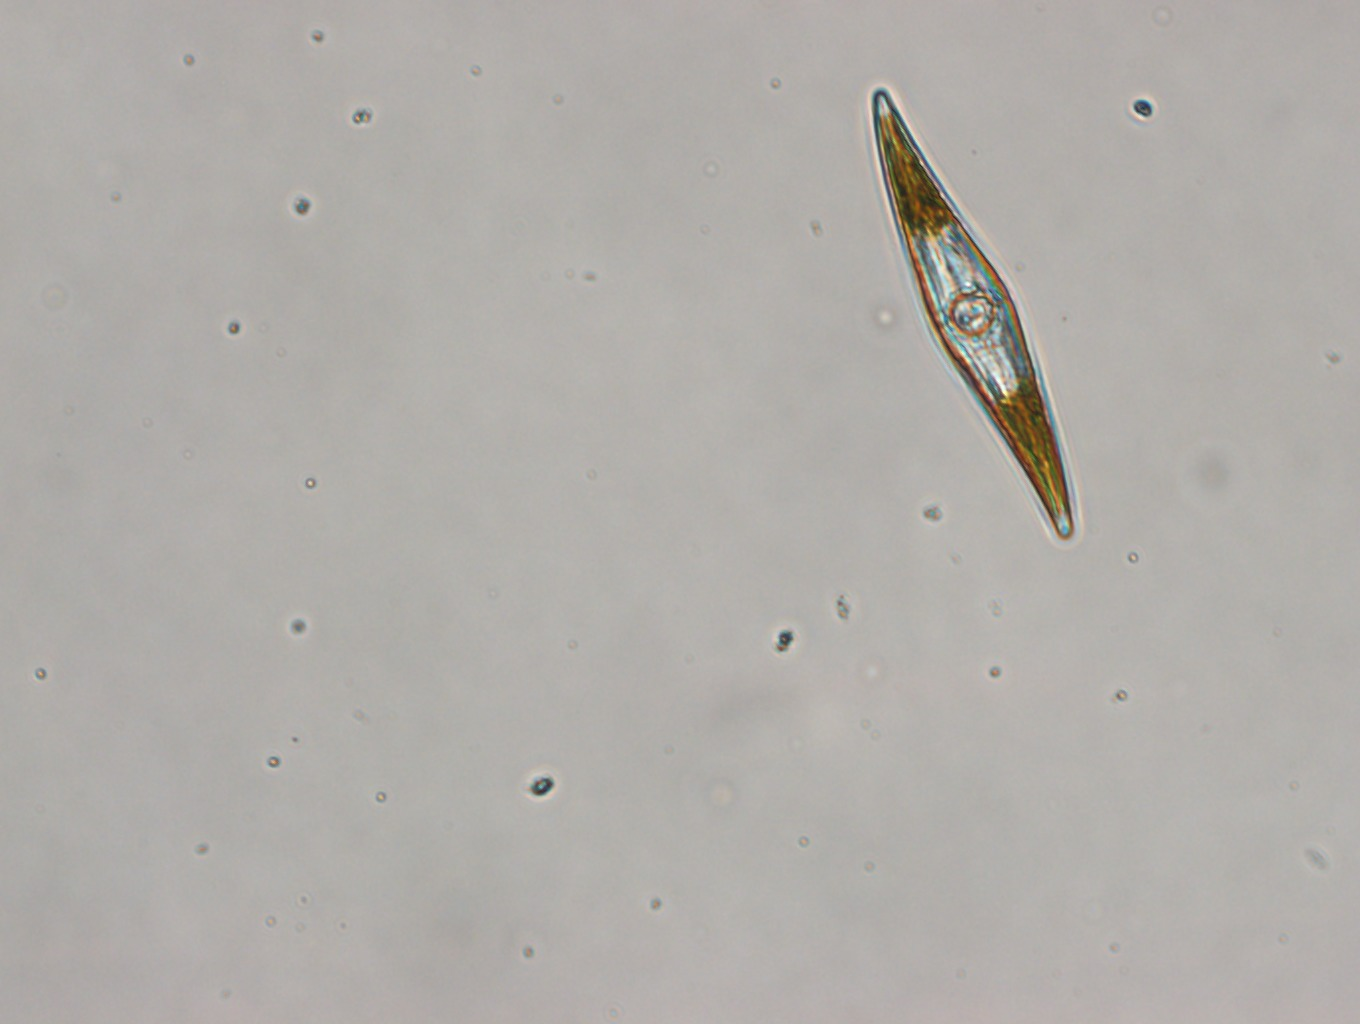pleurosigma pelagicum: (872, 83, 1079, 545)
